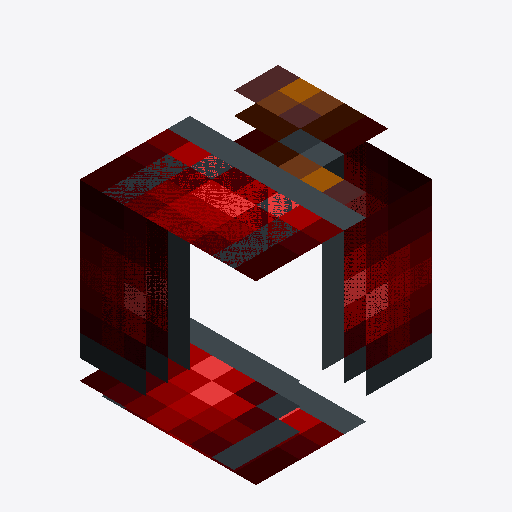
A Minecraft block model of 7 cuboids, rendered isometrically (azimuth 45°, elevation 35.3°) with the resource pack's own textures.
Parts seen in each view (by area): element 6, element 3, element 1, element 5, element 7, element 4.
Boxes of the visible parts, x1=… form: element 6: x1=80, y1=116, x2=365, y2=280; element 3: x1=80, y1=318, x2=365, y2=484; element 1: x1=322, y1=180, x2=431, y2=395; element 5: x1=80, y1=180, x2=189, y2=395; element 7: x1=234, y1=65, x2=387, y2=204; element 4: x1=323, y1=142, x2=431, y2=217.
Size of the model in its own units: 8 by 10 by 8.